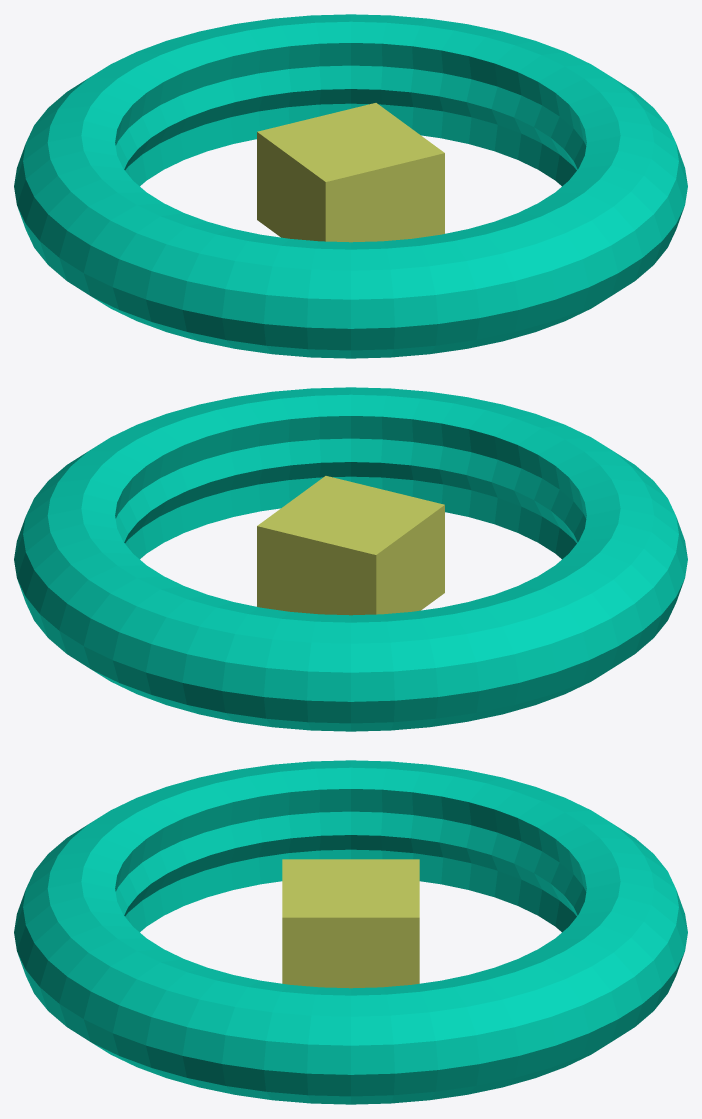
Rendered from Collectable.fbx.
3 views of the same model, one above another, from view 1: azimuth 30°, elevation 25°; view 2: azimuth 150°, elevation 25°; view 3: azimuth 270°, elevation 25° (orthographic).
Parts seen in each view (by area): view 1: Torus, Cube; view 2: Torus, Cube; view 3: Torus, Cube.
Boxes of the visible parts, <box> form: Torus: <box>14,14,687,358</box>; Cube: <box>257,103,444,242</box>; Torus: <box>14,387,687,731</box>; Cube: <box>257,476,444,615</box>; Torus: <box>14,760,687,1104</box>; Cube: <box>282,859,419,988</box>.
Size of the model in its own units: 362 by 60.15 by 362.
